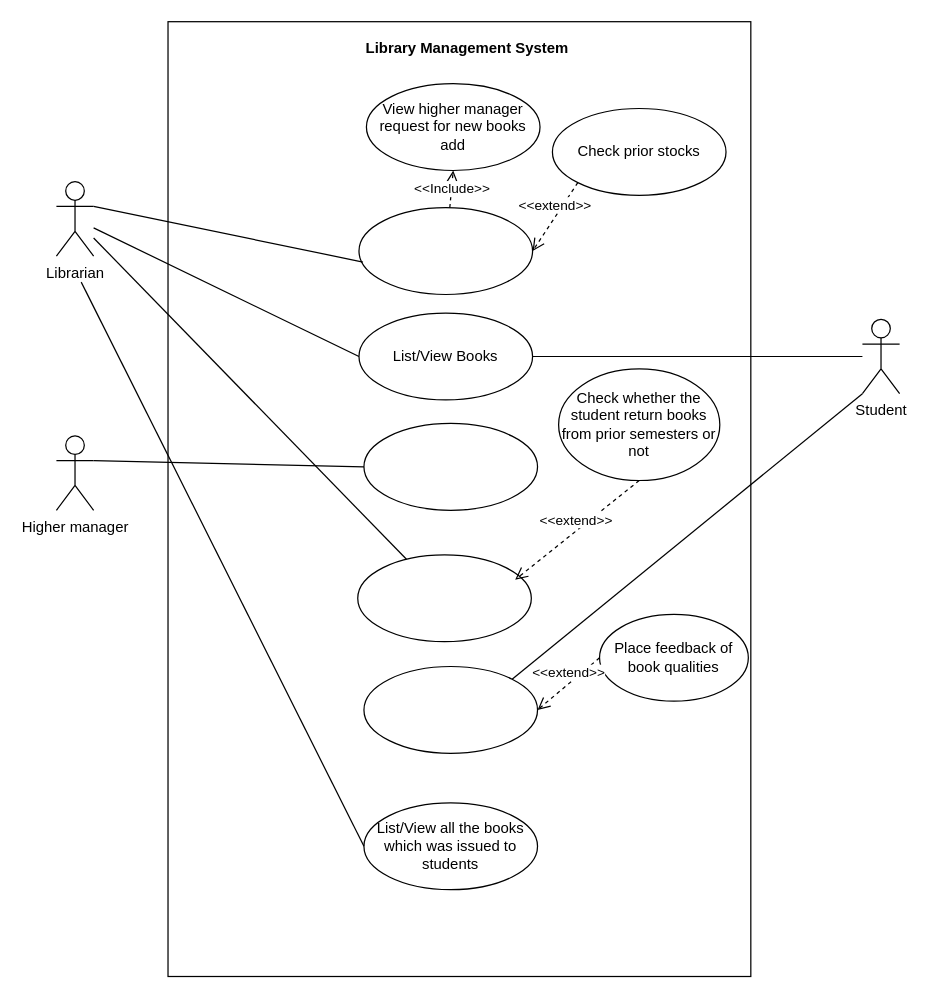
Some shapes in this 928 by 998 pixel diagram are drawn without their labels. The centre of each missing label's shape, as x and y in pixels:
"Add Books" belongs at point (445, 250).
"Assign books to students" belongs at point (443, 598).
"List borrowed books" belongs at point (450, 709).
"Place new books order requests" belongs at point (450, 466).
